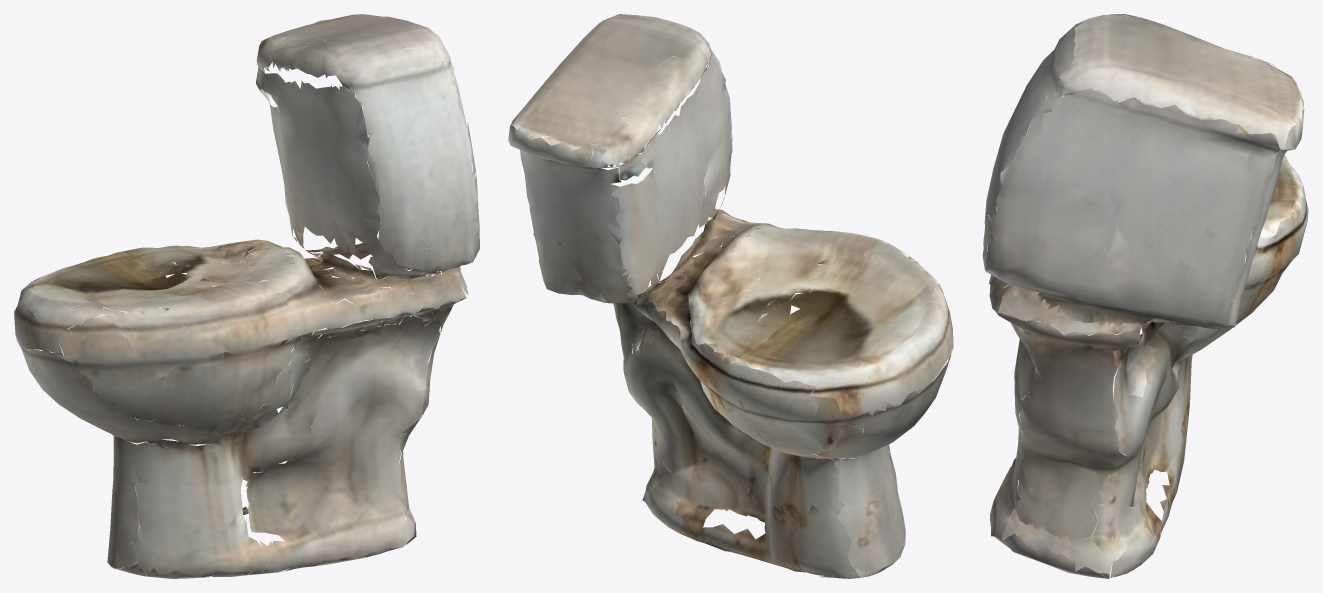
The model's file is toilet.glb.
3 renders of one model, left to right at view 1: azimuth 30°, elevation 25°; view 2: azimuth 150°, elevation 25°; view 3: azimuth 270°, elevation 25°, orthographic. The views are drawn at different scales.
Parts seen in each view (by area): view 1: geometry_0; view 2: geometry_0; view 3: geometry_0.
Boxes of the visible parts, x1,y1,x2,y2 form: geometry_0: [14, 14, 479, 578]; geometry_0: [508, 14, 953, 578]; geometry_0: [982, 14, 1308, 578].
Size of the model in its own units: 0.7402 by 0.9 by 0.4827.
Materials: 1 (1 with a texture image).
